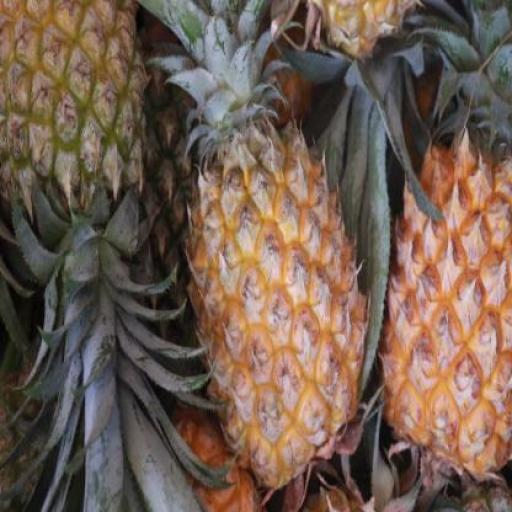------------------------------: (0, 0, 151, 224)
Pineapple - v8 v1: (182, 128, 371, 482), (384, 136, 512, 488)
